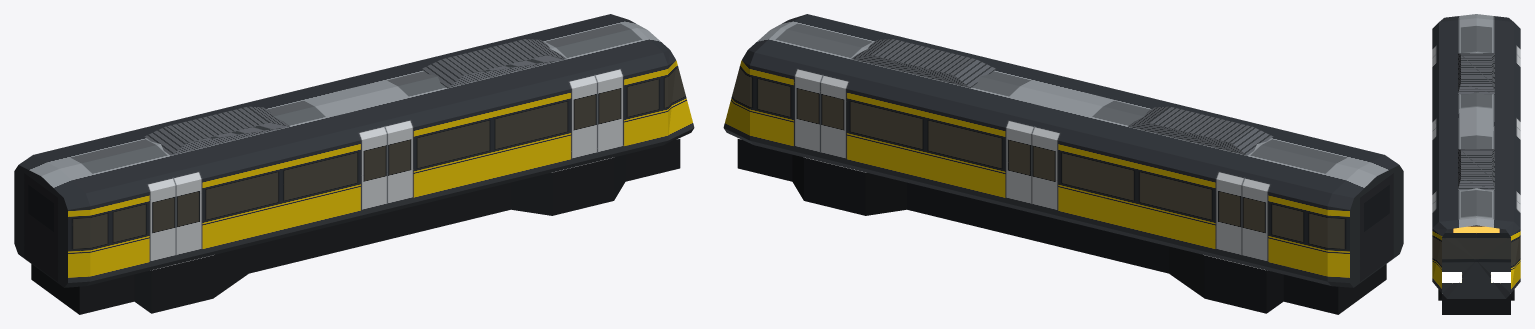
Rendered from bvg_grossprofil__cab.glb.
3 views of the same model, side by side, from view 1: azimuth 30°, elevation 25°; view 2: azimuth 150°, elevation 25°; view 3: azimuth 270°, elevation 25° (orthographic). The views are drawn at different scales.
Parts seen in each view (by area): view 1: bvg_grossprofil__cab; view 2: bvg_grossprofil__cab; view 3: bvg_grossprofil__cab.
Boxes of the visible parts, x1,y1,x2,y2 form: bvg_grossprofil__cab: (14, 14, 694, 314); bvg_grossprofil__cab: (723, 14, 1403, 314); bvg_grossprofil__cab: (1432, 14, 1520, 314).
Size of the model in its own units: 15.5 by 3.45 by 2.65.
Materials: 1 (1 with a texture image).
